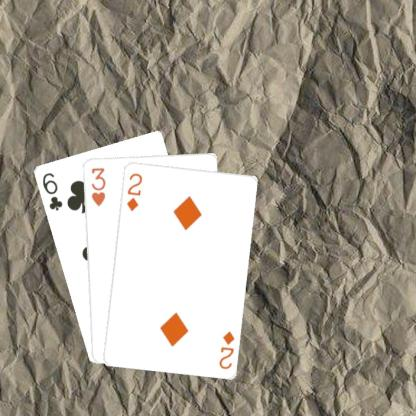2D: (124, 170, 143, 212), (216, 328, 235, 370)
3H: (89, 165, 106, 207)
6C: (39, 170, 64, 212)
